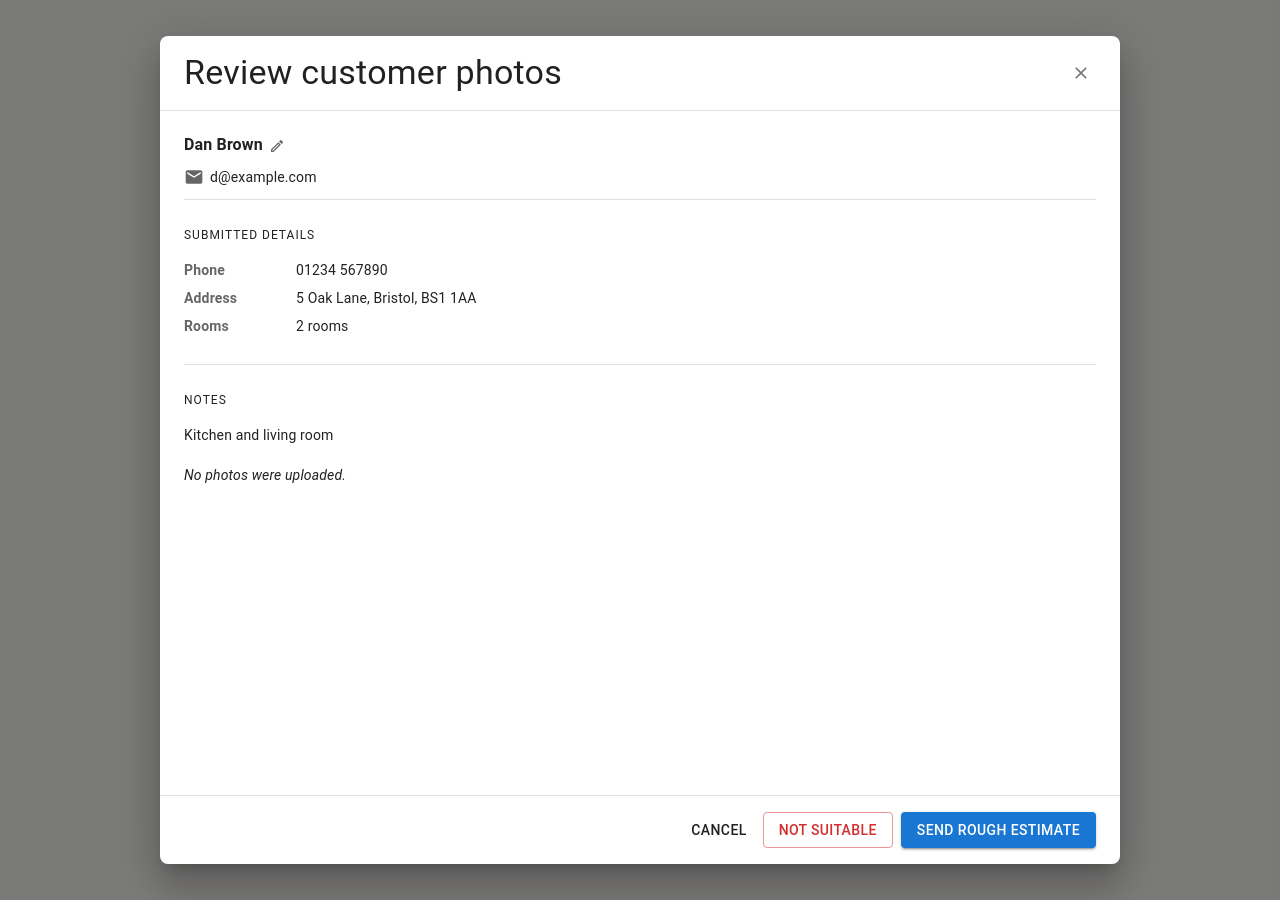
Scenario: ReviewCustomerPhotosModal — discard guard: dirty state shows dialog › shows the discard dialog on the not_suitable step (email body is pre-filled)
The image size is (1280, 900).
Click the button with test id "cah-not-suitable".
click(828, 830)  # box [763,812,893,848]
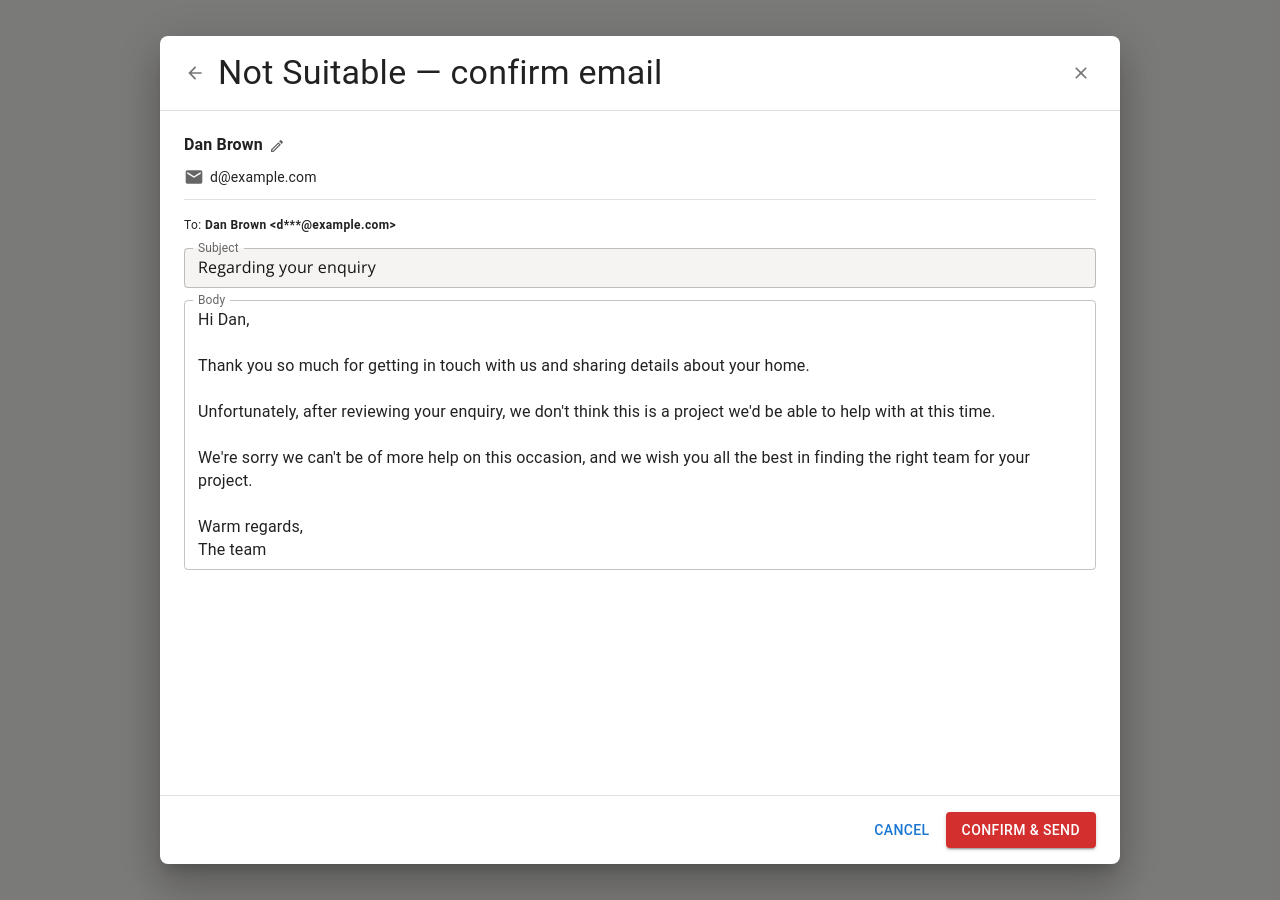
Expected: the field labelled "Subject" is shown, [184,248,1096,288]
Click the button named "close".
click(1081, 73)  # box [1066,58,1096,88]
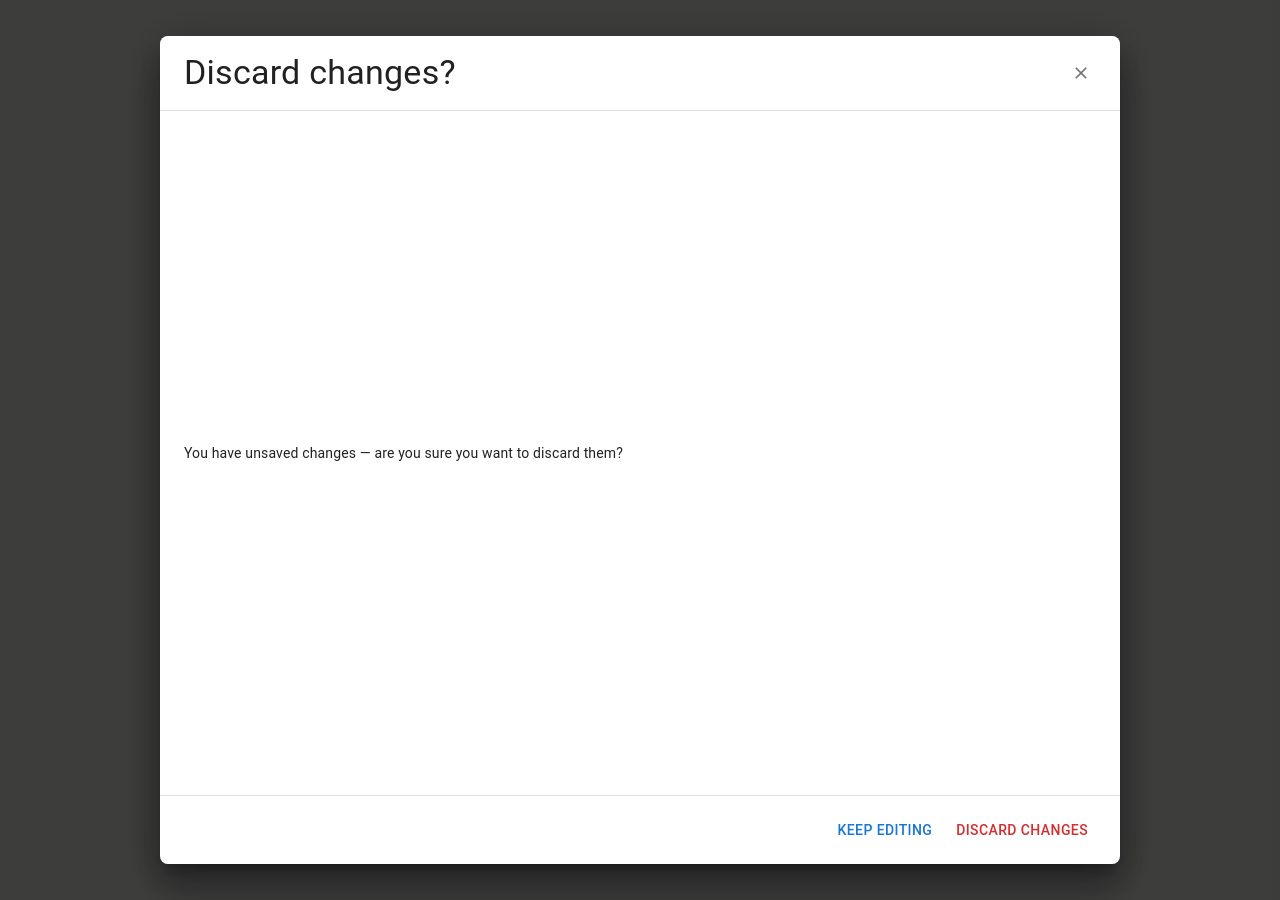
Expected: the dialog "Discard changes" is shown
